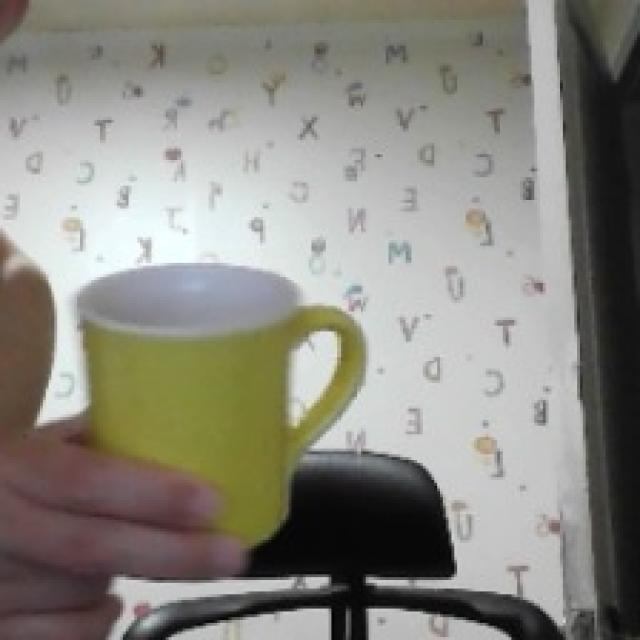cup: (77, 266, 360, 543)
